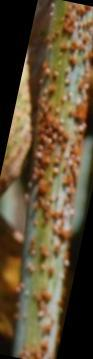Wheat: (25, 7, 93, 276)
